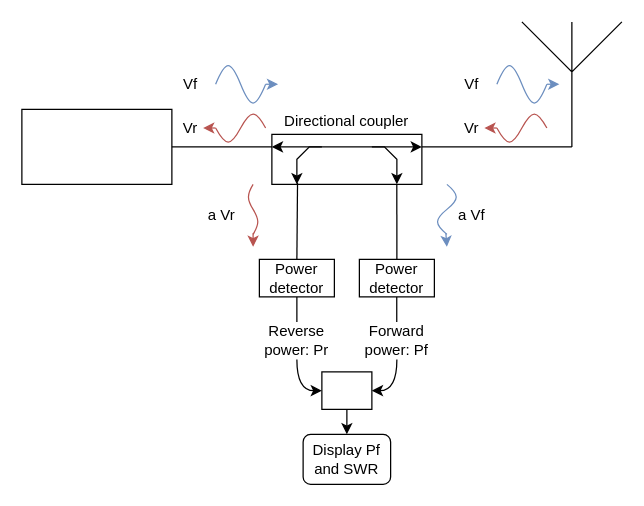
Image size: 644x506. Some labels were removed from this diagram. Here are the shapes that lost their labels. From the top down, the centre of each, then its label:
At [96,146]: "Transceiver".
At [346,390]: "Math".
